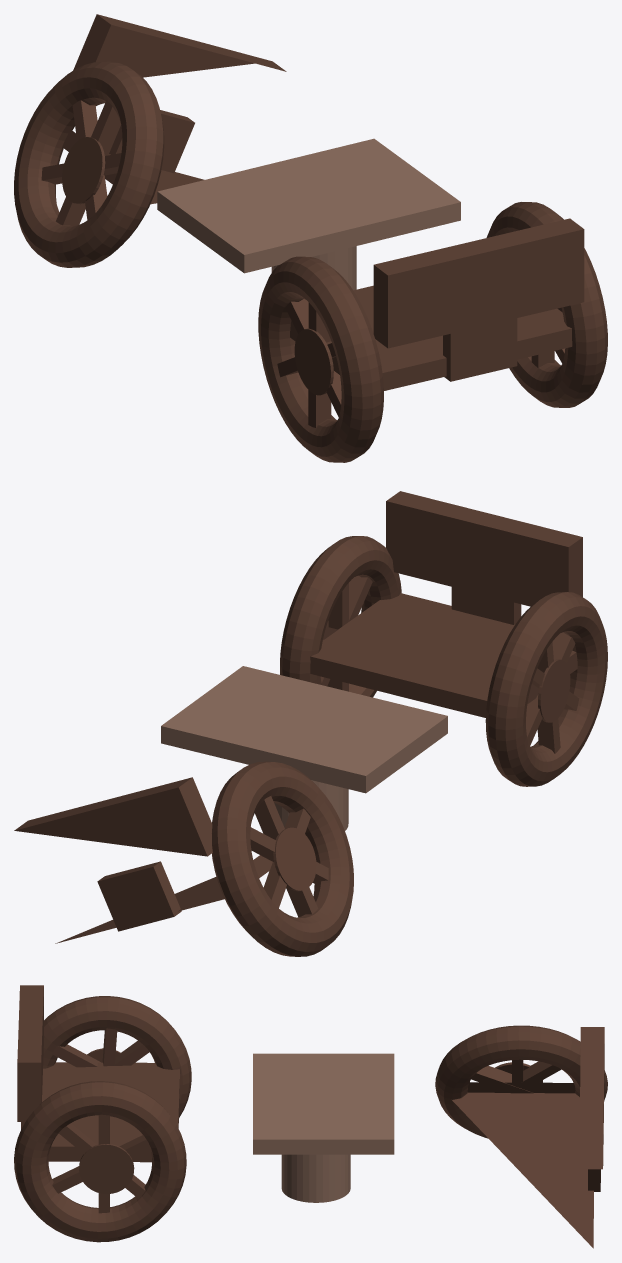
Rendered from Broken_chairs_FINglb.glb.
3 renders of one model, top to bottom at view 1: azimuth 30°, elevation 25°; view 2: azimuth 150°, elevation 25°; view 3: azimuth 270°, elevation 25°, orthographic. The views are drawn at different scales.
Visible parts, largest first — view 1: Torus, Torus.001, Cube; view 2: Torus, Torus.001, Cube; view 3: Torus, Torus.001, Cube.
Part boxes in pixels (box(x1,y1,x2,y2)): Torus: box(258, 202, 607, 462); Torus.001: box(14, 14, 286, 267); Cube: box(157, 138, 460, 290); Torus: box(280, 491, 607, 786); Torus.001: box(14, 761, 353, 956); Cube: box(161, 666, 447, 830); Torus: box(14, 985, 191, 1242); Torus.001: box(435, 1025, 607, 1248); Cube: box(253, 1053, 394, 1202).
Size of the model in its own units: 3.89 by 2.89 by 8.59.
